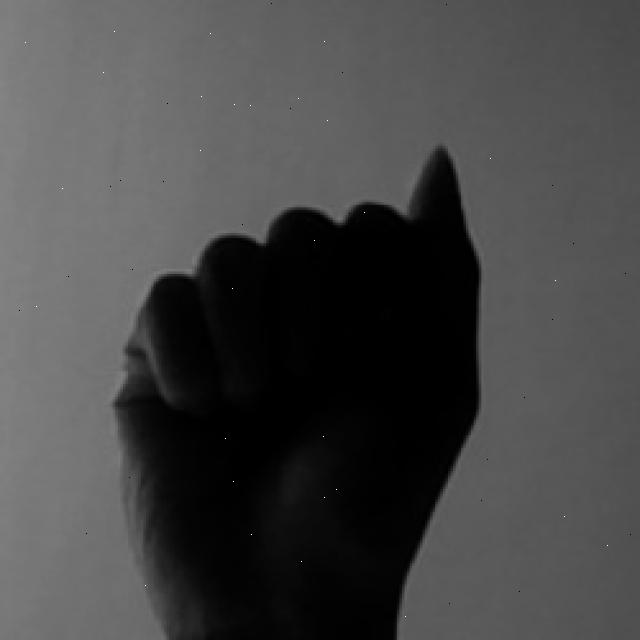A: (106, 137, 489, 640)
